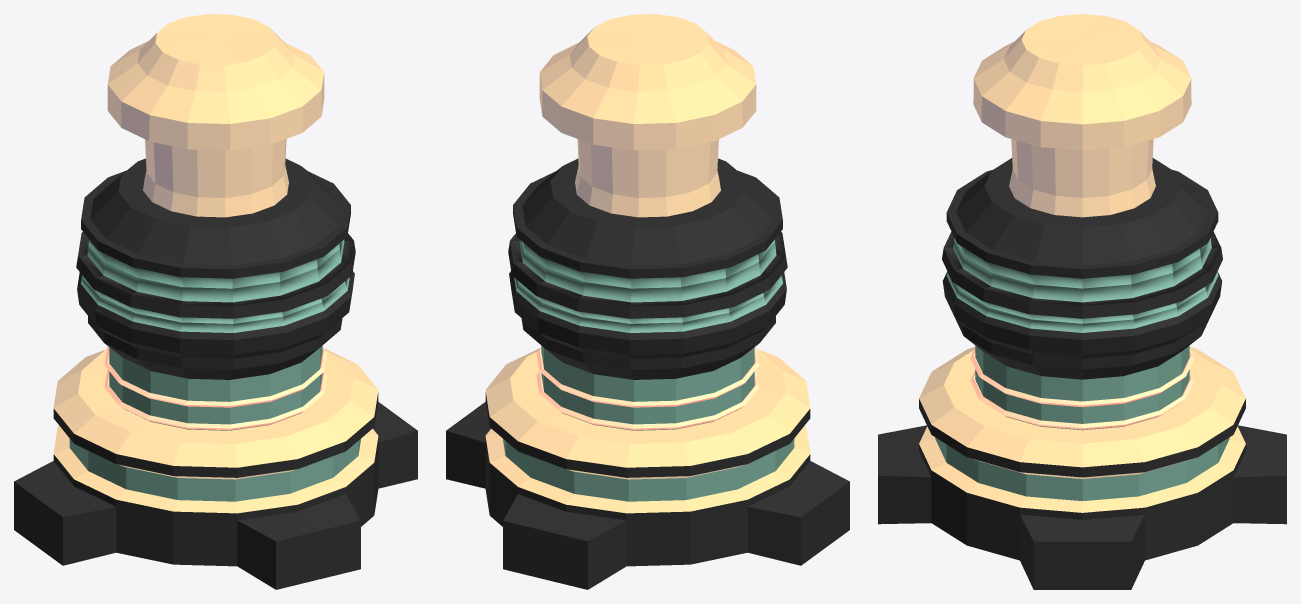
Rendered from MainBuilding_Lv3.fbx.
3 views of the same model, side by side, from view 1: azimuth 30°, elevation 25°; view 2: azimuth 150°, elevation 25°; view 3: azimuth 270°, elevation 25° (orthographic).
Parts seen in each view (by area): view 1: Base_Lvl03_LOD0; view 2: Base_Lvl03_LOD0; view 3: Base_Lvl03_LOD0.
Boxes of the visible parts, <box> form: Base_Lvl03_LOD0: <box>14,14,417,589</box>; Base_Lvl03_LOD0: <box>446,14,849,589</box>; Base_Lvl03_LOD0: <box>878,14,1286,589</box>.
Size of what is drawn, in the model's own units: 15524 by 19432 by 15524.
